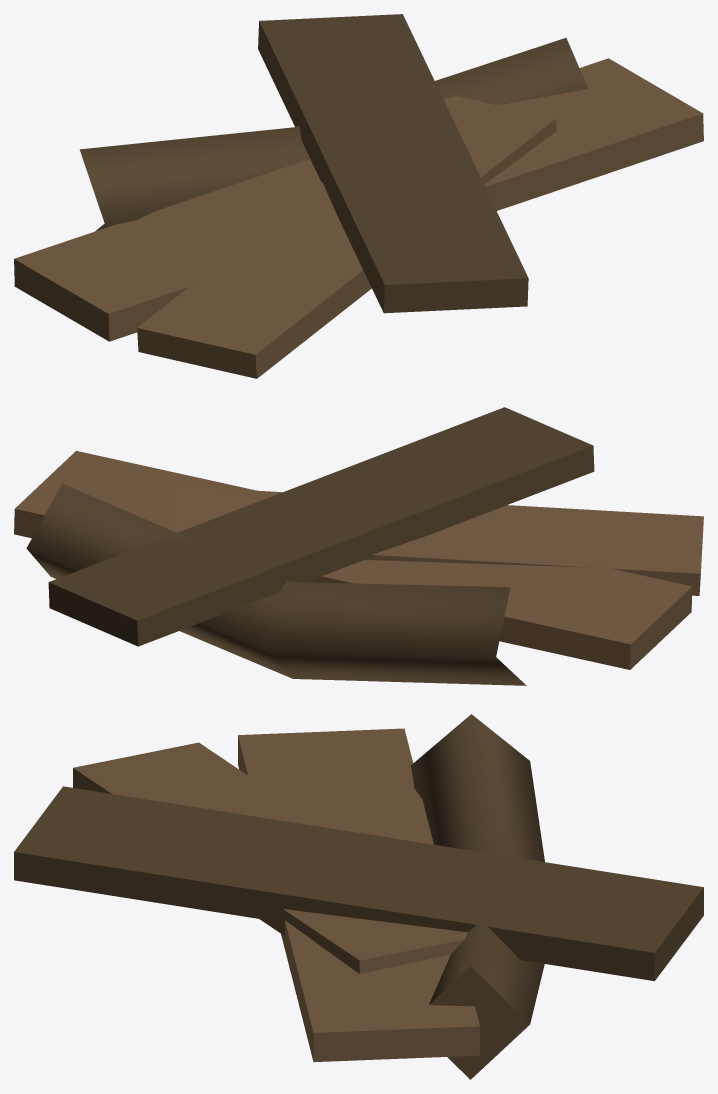
The model's file is land-forest-29.glb.
3 renders of one model, top to bottom at view 1: azimuth 30°, elevation 25°; view 2: azimuth 150°, elevation 25°; view 3: azimuth 270°, elevation 25°, orthographic. The views are drawn at different scales.
Visible parts, largest first — view 1: land.forest.29; view 2: land.forest.29; view 3: land.forest.29.
Boxes of the visible parts, bbox=[...] form: land.forest.29: bbox=[14, 14, 703, 378]; land.forest.29: bbox=[14, 407, 703, 685]; land.forest.29: bbox=[14, 714, 703, 1079].
Bounding box in the file's own units: 2.3 × 0.496 × 2.05.
